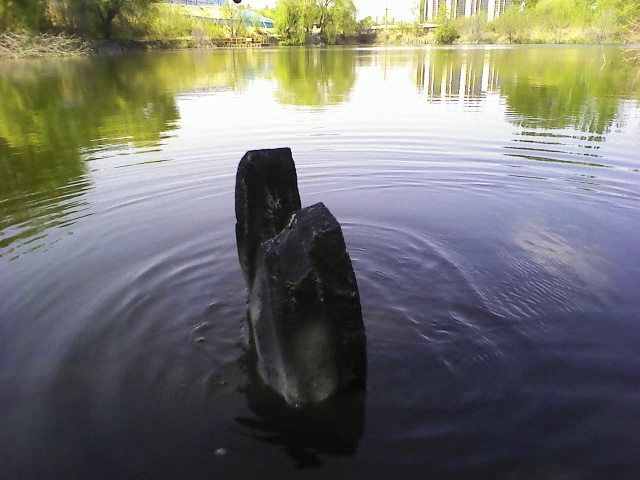rock: (230, 137, 377, 400)
